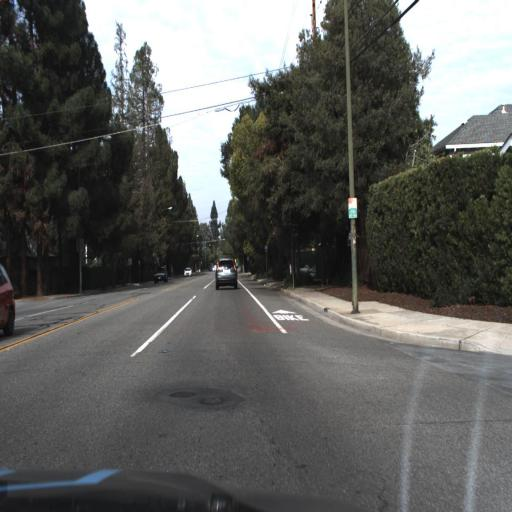car: (214, 252, 239, 292), (153, 262, 168, 284)
